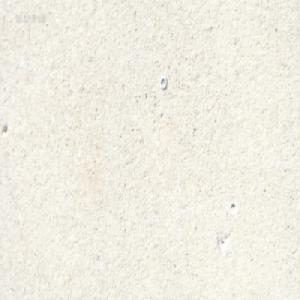Washer: (159, 75, 167, 90)
